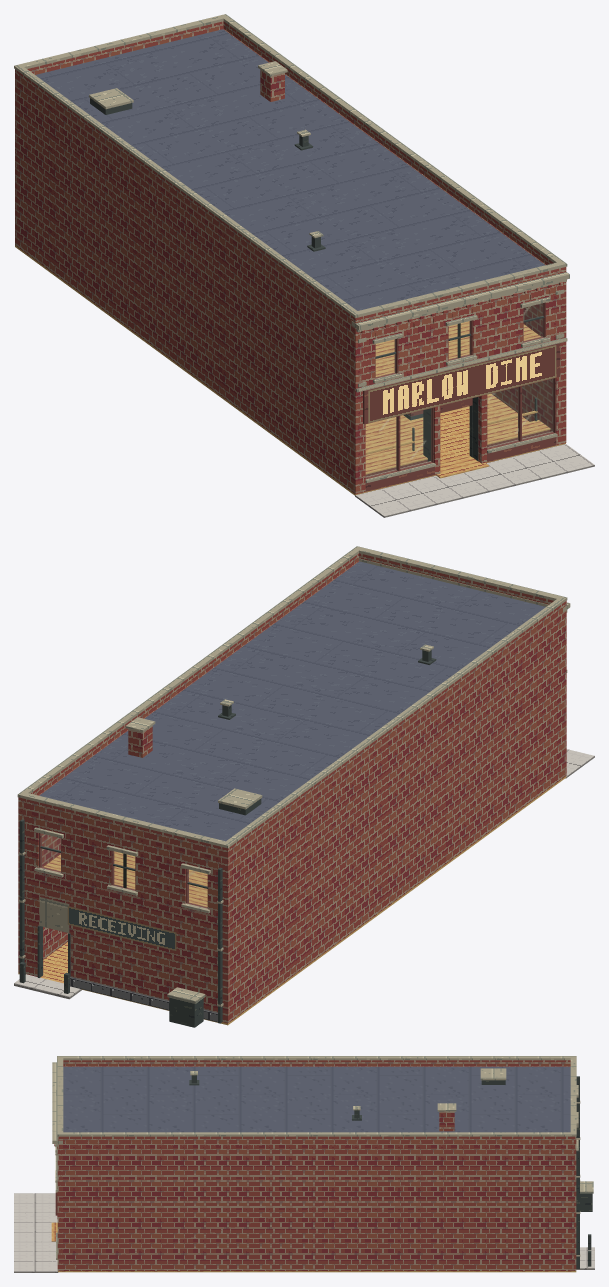
The model's file is marlow-1925.glb.
3 renders of one model, top to bottom at view 1: azimuth 30°, elevation 25°; view 2: azimuth 150°, elevation 25°; view 3: azimuth 270°, elevation 25°, orthographic. The views are drawn at different scales.
Parts seen in each view (by area): view 1: building_shell, roof_and_parapet, Shared street sidewalk, sign_name, fixed_shop_fixtures; view 2: building_shell, roof_and_parapet, sign_receiving, lot, Rear receiving pad; view 3: building_shell, roof_and_parapet, Shared street sidewalk, lot.
Part boxes in pixels (x1,y1,x2,y2): building_shell: (15,29,567,495); roof_and_parapet: (14,14,569,333); Shared street sidewalk: (355,444,594,517); sign_name: (368,345,556,423); fixed_shop_fixtures: (365,397,550,476); building_shell: (18,561,567,1025); roof_and_parapet: (17,546,570,858); sign_receiving: (67,906,176,950); lot: (19,962,205,1027); Rear receiving pad: (14,974,81,999); building_shell: (51,1066,580,1272); roof_and_parapet: (52,1056,576,1146); Shared street sidewalk: (14,1193,58,1272); lot: (580,1181,593,1266).
Size of what is drawn, in the model's own units: 10.05 by 9.06 by 31.36.
11 materials, 11 textured.
